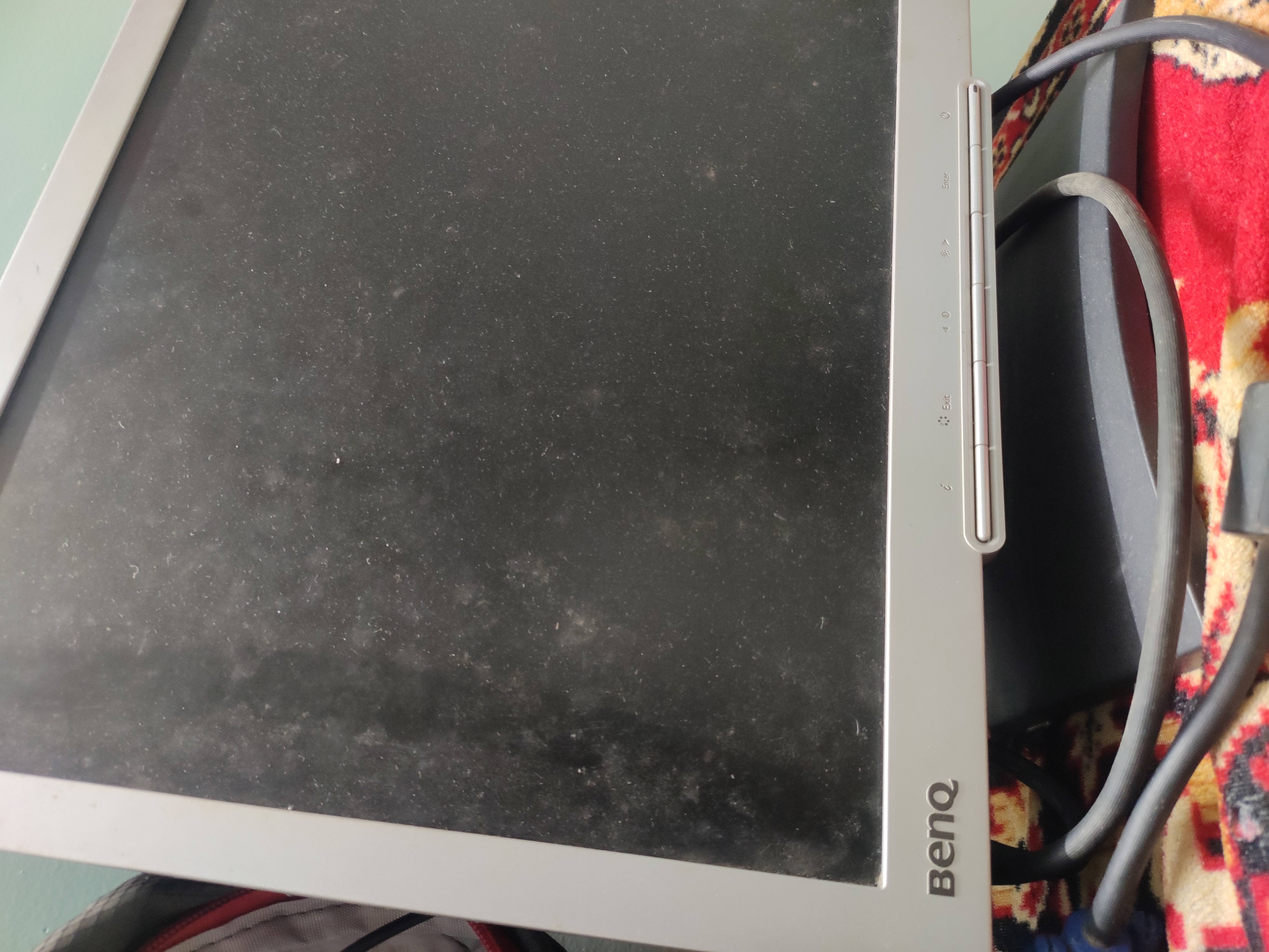Electronics: (1, 1, 1214, 952)
